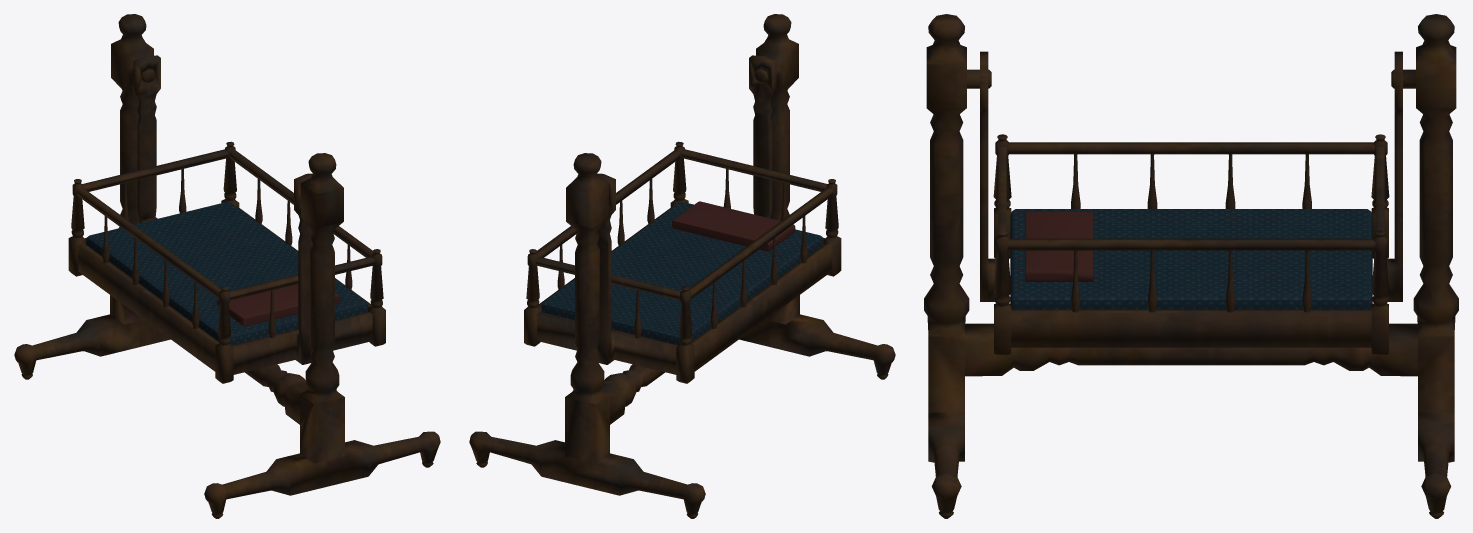
Rendered from prop_cradle.glb.
The picture shows the model from 3 angles, left to right: view 1: azimuth 30°, elevation 25°; view 2: azimuth 150°, elevation 25°; view 3: azimuth 270°, elevation 25°; orthographic projection. The views are drawn at different scales.
Parts seen in each view (by area): view 1: cradle_low, pCube3; view 2: cradle_low, pCube3; view 3: cradle_low, pCube3.
Part boxes in pixels (box(x1,y1,x2,y2)): cradle_low: box(14, 14, 440, 518); pCube3: box(86, 201, 368, 345); cradle_low: box(469, 14, 895, 518); pCube3: box(541, 201, 823, 345); cradle_low: box(924, 14, 1458, 518); pCube3: box(1010, 209, 1372, 309).
Size of the model in its own units: 0.5844 by 0.8 by 0.8987.
Materials: 2 (2 with a texture image).
